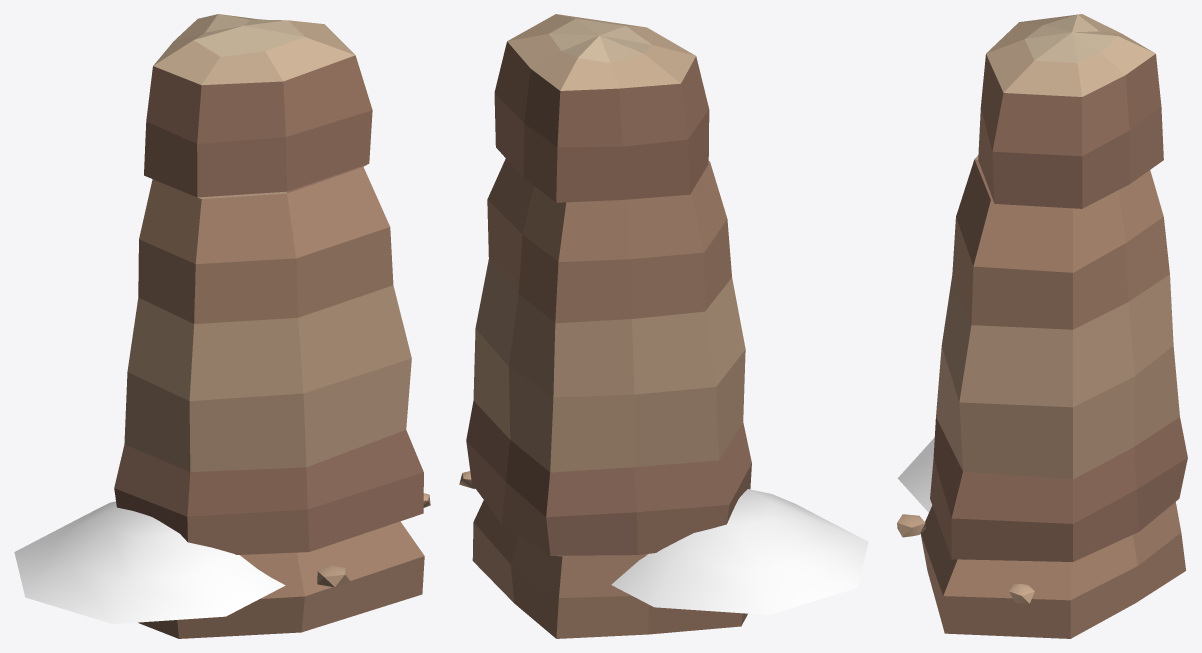
The model's file is roca_canon_a_ligero.glb.
The picture shows the model from 3 angles, left to right: view 1: azimuth 30°, elevation 25°; view 2: azimuth 150°, elevation 25°; view 3: azimuth 270°, elevation 25°; orthographic projection. The views are drawn at different scales.
Visible parts, largest first — view 1: roca_canon_a, roca_canon_a_arena; view 2: roca_canon_a, roca_canon_a_arena; view 3: roca_canon_a, roca_canon_a_arena.
Part boxes in pixels (x1=…): roca_canon_a: x1=114, y1=14, x2=430, y2=638; roca_canon_a_arena: x1=14, y1=501, x2=285, y2=624; roca_canon_a: x1=459, y1=14, x2=751, y2=638; roca_canon_a_arena: x1=611, y1=489, x2=868, y2=614; roca_canon_a: x1=897, y1=14, x2=1187, y2=638; roca_canon_a_arena: x1=897, y1=438, x2=934, y2=512.
Bounding box in the file's own units: 7.89 × 10.44 × 5.04.
